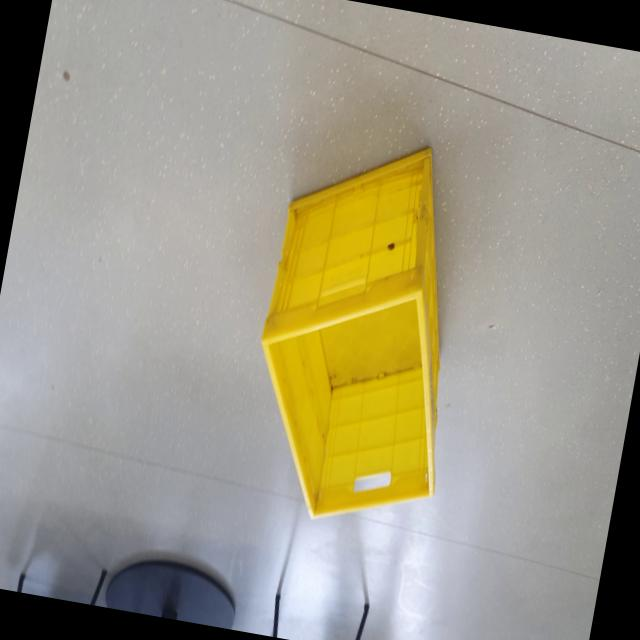box: (230, 120, 499, 549)
